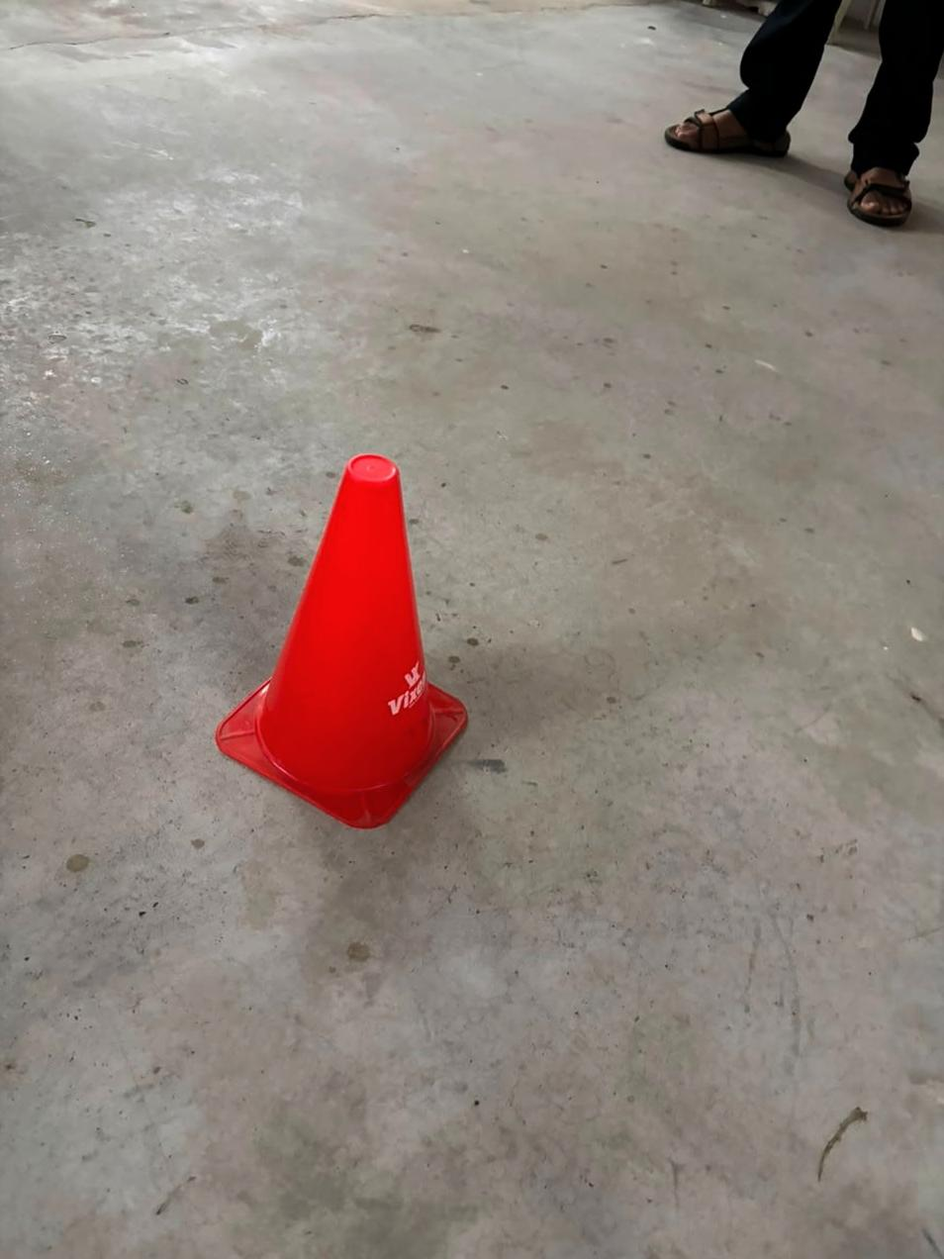0 cone: (216, 454, 467, 827)
